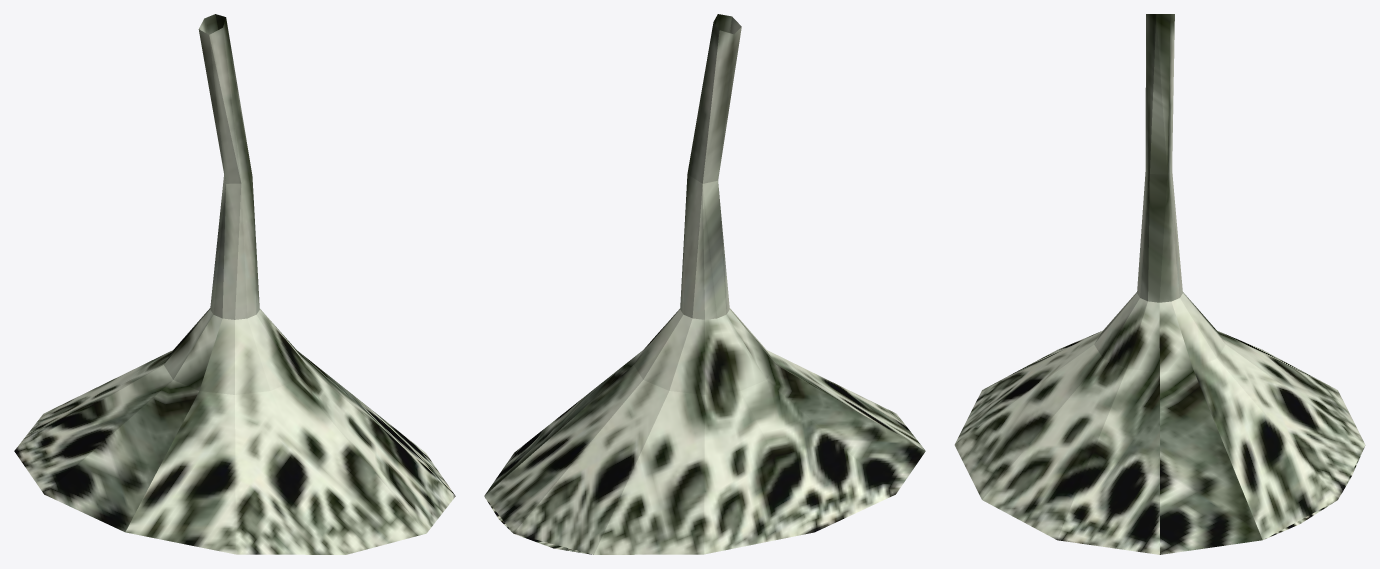
File: lychen-trumpet-large.fbx
The picture shows the model from 3 angles, left to right: view 1: azimuth 30°, elevation 25°; view 2: azimuth 150°, elevation 25°; view 3: azimuth 270°, elevation 25°; orthographic projection. The views are drawn at different scales.
Parts seen in each view (by area): view 1: lychen_trumpet_large; view 2: lychen_trumpet_large; view 3: lychen_trumpet_large.
Boxes of the visible parts, x1=… form: lychen_trumpet_large: x1=14, y1=14, x2=455, y2=554; lychen_trumpet_large: x1=484, y1=14, x2=925, y2=554; lychen_trumpet_large: x1=954, y1=14, x2=1365, y2=554.
Size of the model in its own units: 99.18 by 126 by 100.
